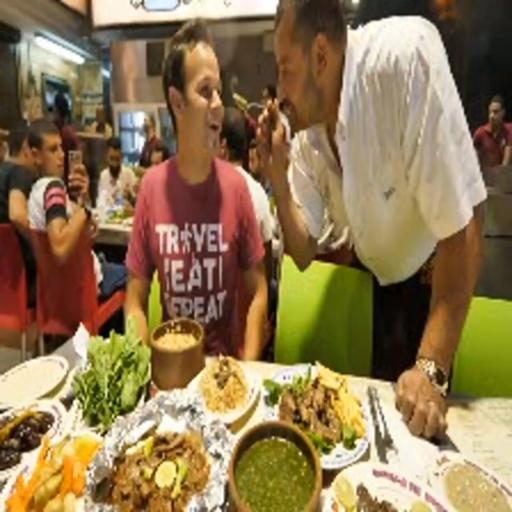nao-violencia: (123, 0, 489, 393)
